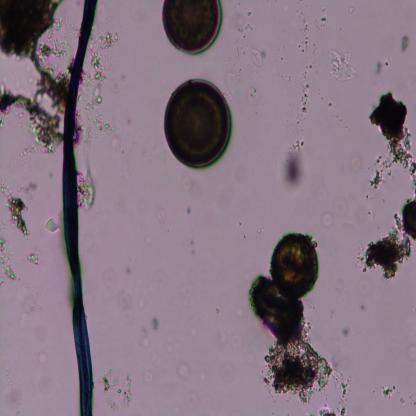Background material: (0, 0, 71, 94), (0, 87, 62, 164), (262, 336, 328, 402), (249, 274, 314, 339), (77, 21, 124, 110), (356, 230, 410, 280), (361, 87, 409, 143), (100, 366, 136, 413), (276, 140, 309, 191), (388, 136, 416, 194), (0, 179, 28, 236), (75, 110, 114, 150), (324, 46, 360, 85), (0, 228, 19, 284), (74, 172, 99, 212), (368, 156, 392, 191), (2, 374, 22, 416), (298, 66, 315, 114), (294, 11, 312, 52), (228, 160, 256, 186), (19, 294, 41, 327), (334, 369, 346, 415), (224, 42, 244, 66), (113, 134, 135, 155), (44, 214, 62, 234), (376, 383, 395, 401), (140, 328, 154, 351), (320, 212, 336, 231), (251, 49, 266, 67), (356, 279, 370, 297), (183, 171, 194, 193), (119, 292, 132, 310), (350, 155, 362, 173), (318, 405, 337, 416), (176, 362, 189, 378), (154, 206, 166, 223), (22, 180, 36, 194), (237, 22, 252, 35), (400, 35, 410, 53), (245, 84, 257, 98), (144, 370, 154, 386), (394, 216, 404, 231), (31, 250, 39, 268), (188, 396, 198, 410), (149, 316, 158, 331), (406, 347, 416, 360), (231, 72, 243, 81), (340, 326, 349, 338), (348, 4, 357, 15), (319, 16, 326, 30), (376, 60, 382, 76), (365, 208, 374, 217), (398, 396, 406, 406), (186, 237, 196, 245), (124, 268, 132, 275), (320, 3, 326, 12), (43, 354, 48, 364), (213, 307, 219, 315), (237, 220, 243, 227), (295, 120, 302, 126), (185, 208, 191, 215), (360, 304, 364, 312), (258, 228, 264, 233), (384, 61, 390, 66), (366, 195, 370, 201), (243, 233, 247, 238), (192, 249, 196, 254), (328, 101, 331, 107), (248, 14, 251, 17)
Cotton: (60, 0, 96, 416)
Diatom: (160, 76, 233, 172), (161, 0, 224, 56), (270, 231, 320, 299), (401, 197, 416, 244)
